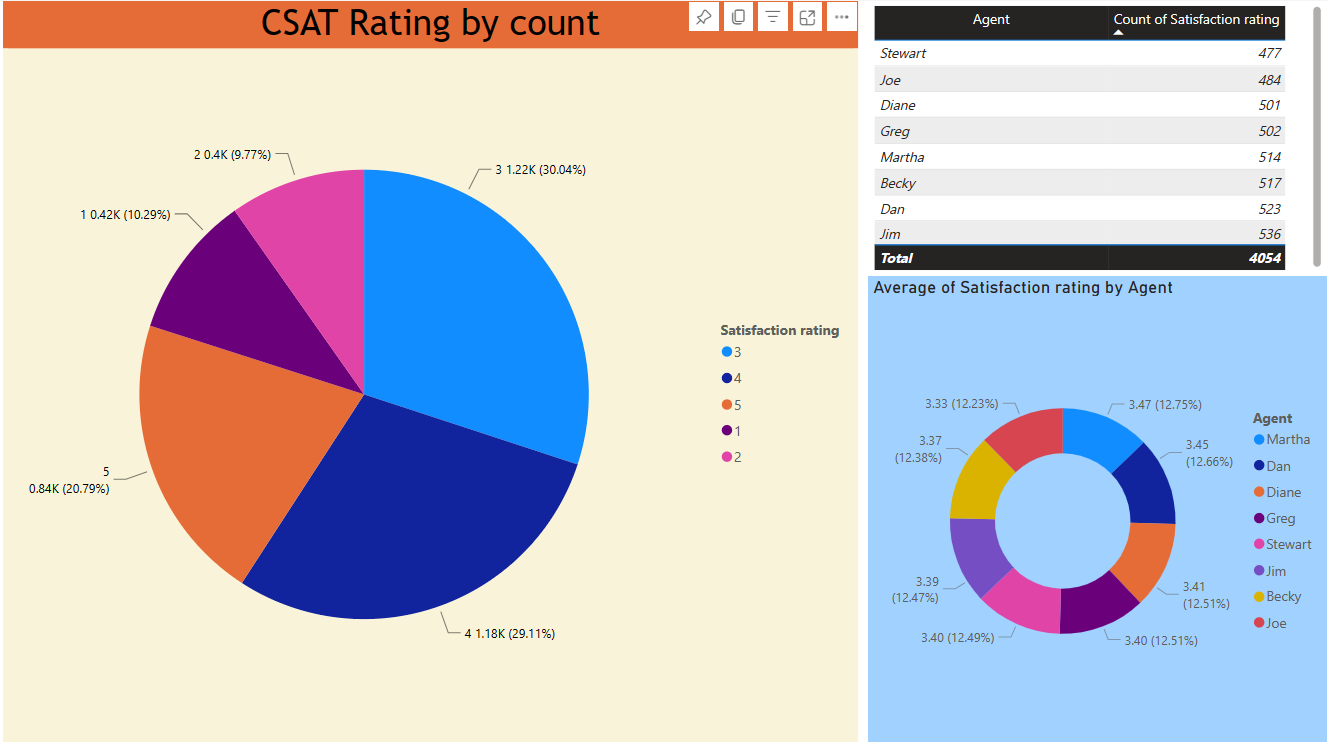

What the dashboard file says about the page in this screenshot:
{"tool":"powerbi","page":{"name":"Overall CSAT Rating","canvas":[1280,720],"ordinal":0},"visuals":[{"type":"pieChart","title":"CSAT Rating by count","fields":{"Category":["Sheet1.Satisfaction rating"],"Y":["Sheet1.Satisfaction rating"]},"box":[0,0,826.3,720],"z":0},{"type":"tableEx","fields":{"Values":["Sheet1.Agent","Sheet1.Satisfaction rating"]},"box":[836.1,0,443.7,265.3],"z":1},{"type":"donutChart","fields":{"Category":["Sheet1.Agent"],"Y":["Sheet1.Satisfaction rating"]},"box":[836.1,265.3,443.7,454.7],"z":2}]}

Visuals, with their boxes in screenshot pixels (x1, y1, x2, y2), scaled from the page's 1280x720 canvas onto the 1328x742 screenshot:
"CSAT Rating by count" pieChart: {"left": 0, "top": 0, "right": 857, "bottom": 741}
tableEx - Sheet1.Agent x Sheet1.Satisfaction rating: {"left": 867, "top": 0, "right": 1327, "bottom": 273}
donutChart - Sheet1.Agent x Sheet1.Satisfaction rating: {"left": 867, "top": 273, "right": 1327, "bottom": 741}
